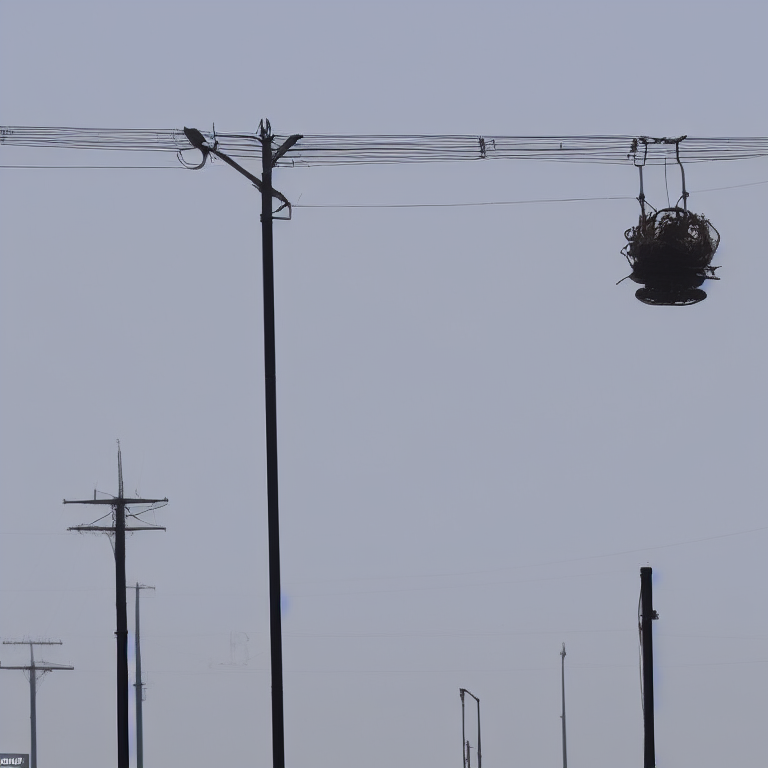nest: (626, 211, 716, 305)
